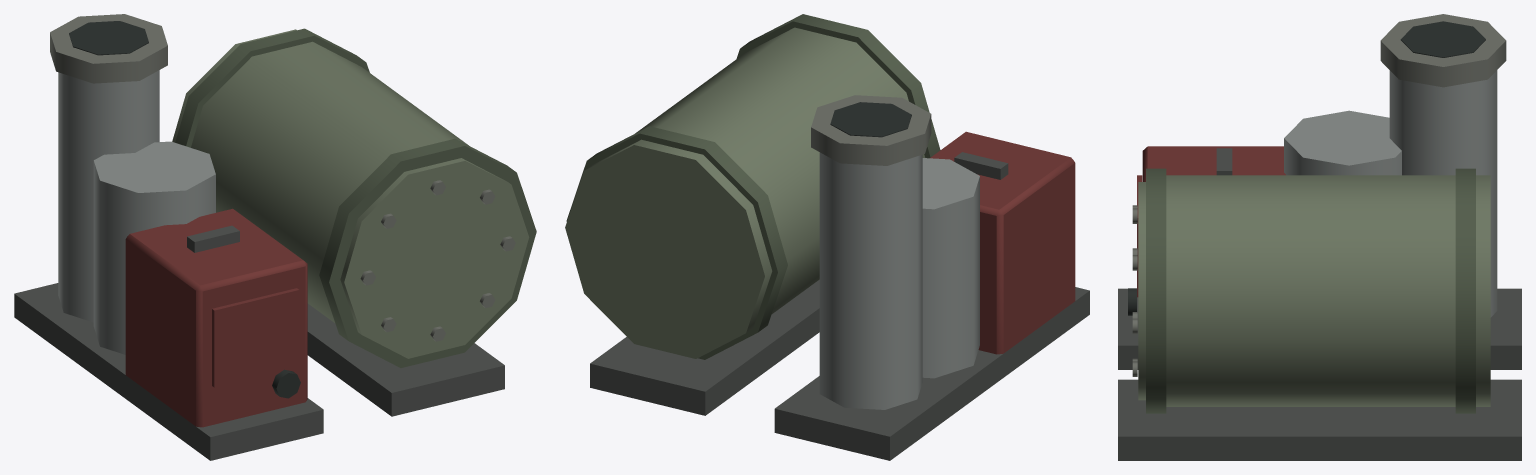
Rendered from chemfuel_generator.obj.
The picture shows the model from 3 angles, left to right: view 1: azimuth 30°, elevation 25°; view 2: azimuth 150°, elevation 25°; view 3: azimuth 270°, elevation 25°; orthographic projection. The views are drawn at different scales.
Parts seen in each view (by area): view 1: retained_24, retained_132, red_control_casing, retained_420, retained_392, retained_0, retained_12, retained_60, retained_340, retained_448, retained_96, retained_476 (+2 smaller); view 2: retained_24, retained_420, red_control_casing, retained_0, retained_392, retained_12, retained_96, retained_448, retained_60, retained_476, retained_380; view 3: retained_24, retained_12, retained_420, retained_392, retained_448, retained_60, retained_96, retained_0, red_control_casing, retained_476, retained_132, retained_380.
Boxes of the visible parts, x1,y1,x2,y2 form: retained_24: (172,29,468,322); retained_132: (340,158,529,358); red_control_casing: (125,208,307,427); retained_420: (58,70,159,322); retained_392: (93,141,215,354); retained_0: (14,283,323,460); retained_12: (307,303,504,416); retained_60: (319,138,536,367); retained_340: (212,288,299,387); retained_448: (50,14,167,83); retained_96: (175,28,369,147); retained_476: (69,21,148,55); retained_24: (565,27,925,358); retained_420: (819,152,922,409); red_control_casing: (930,131,1075,354); retained_0: (774,287,1089,460); retained_392: (922,158,979,378); retained_12: (590,279,819,415); retained_96: (566,126,787,359); retained_448: (811,95,931,165); retained_60: (736,14,940,158); retained_476: (830,102,911,137); retained_380: (954,152,1008,179); retained_24: (1166,175,1490,406); retained_12: (1118,379,1521,460); retained_420: (1389,70,1497,317); retained_392: (1284,110,1401,175); retained_448: (1380,14,1506,87); retained_60: (1146,168,1166,413); retained_96: (1455,168,1475,413); retained_0: (1118,288,1521,369); red_control_casing: (1142,146,1285,181); retained_476: (1400,21,1485,57); retained_132: (1138,182,1145,400); retained_380: (1216,148,1232,175).
Size of the model in its own units: 1.8 by 1.49 by 1.8.
